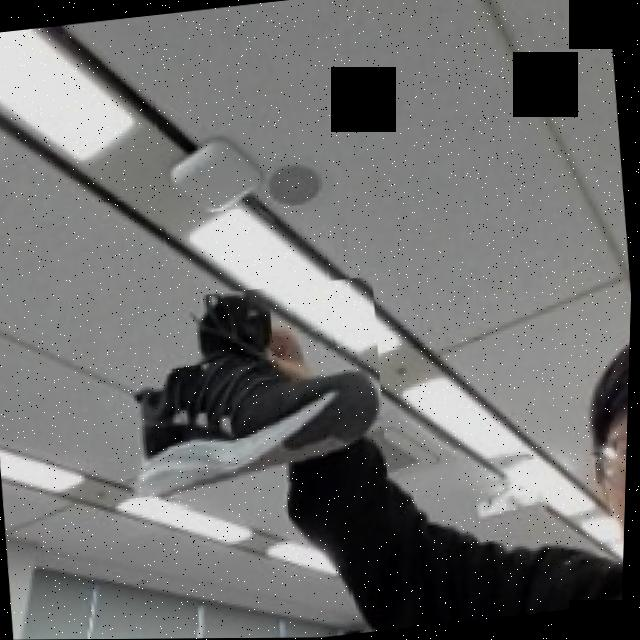shoe: (118, 276, 396, 516)
